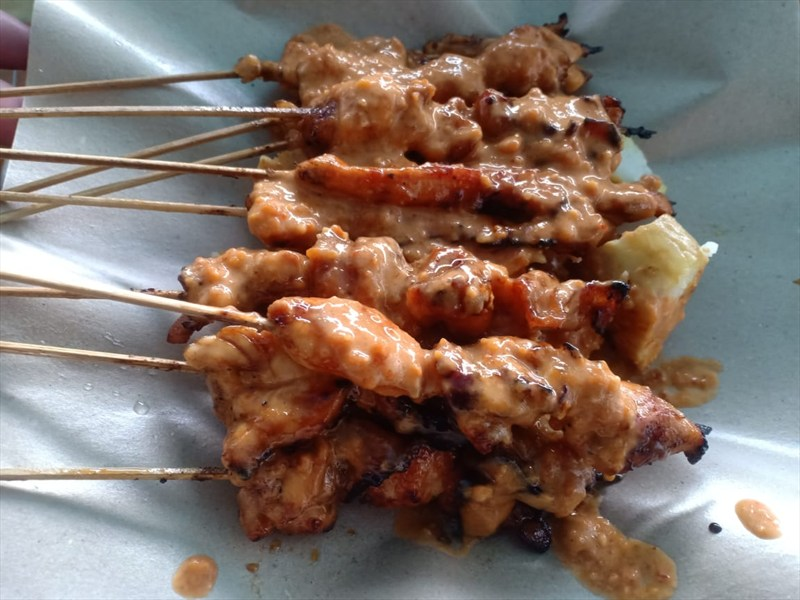Sate Ayam: (162, 69, 648, 461)
